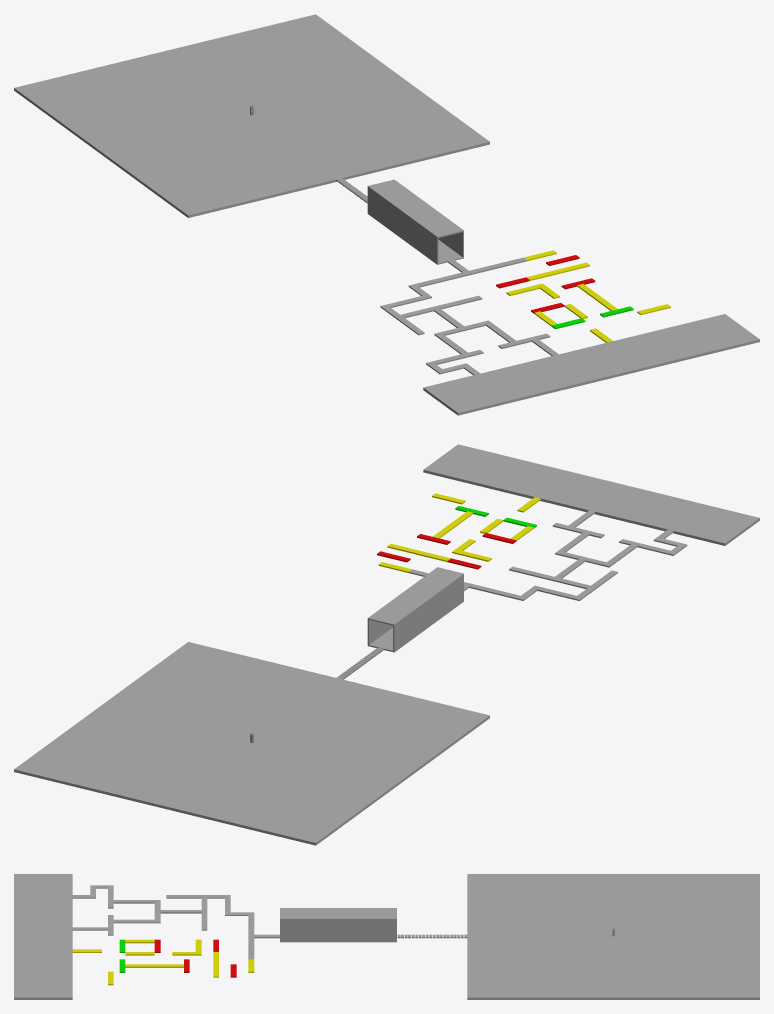
File: sence01.fbx
3 renders of one model, top to bottom at view 1: azimuth 30°, elevation 25°; view 2: azimuth 150°, elevation 25°; view 3: azimuth 270°, elevation 25°, orthographic. The views are drawn at different scales.
Visible parts, largest first — view 1: dimian, zhongdian, yongdao; view 2: dimian, zhongdian, yongdao; view 3: dimian, zhongdian, yongdao.
Part boxes in pixels (x1,y1,x2,y2): dimian: (14, 14, 489, 217); zhongdian: (423, 314, 759, 415); yongdao: (367, 179, 463, 264); dimian: (14, 642, 489, 845); zhongdian: (423, 444, 759, 545); yongdao: (367, 567, 463, 652); dimian: (467, 874, 759, 999); zhongdian: (14, 874, 72, 999); yongdao: (280, 908, 396, 942).
Bounding box in the file's own units: 50 × 4.63 × 127.
